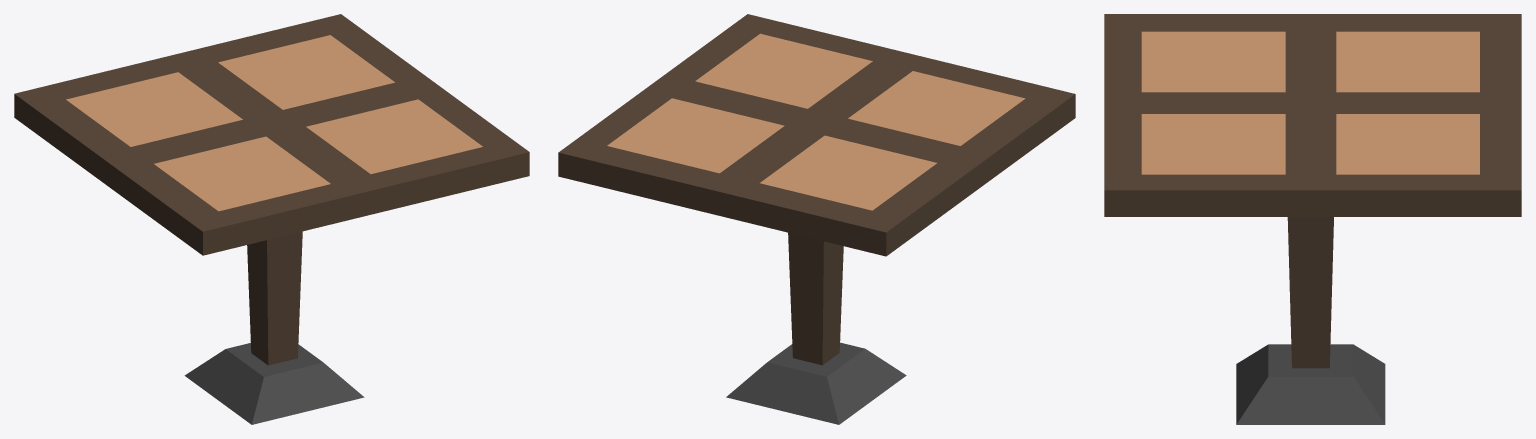
File: Bar Square Table.fbx
3 views of the same model, side by side, from view 1: azimuth 30°, elevation 25°; view 2: azimuth 150°, elevation 25°; view 3: azimuth 270°, elevation 25° (orthographic). The views are drawn at different scales.
Parts seen in each view (by area): view 1: Bar Square Table; view 2: Bar Square Table; view 3: Bar Square Table.
Boxes of the visible parts, <box> form: Bar Square Table: <box>14,14,529,424</box>; Bar Square Table: <box>558,14,1075,424</box>; Bar Square Table: <box>1104,14,1521,424</box>.
Size of the model in its own units: 2000 by 1540 by 2000.
